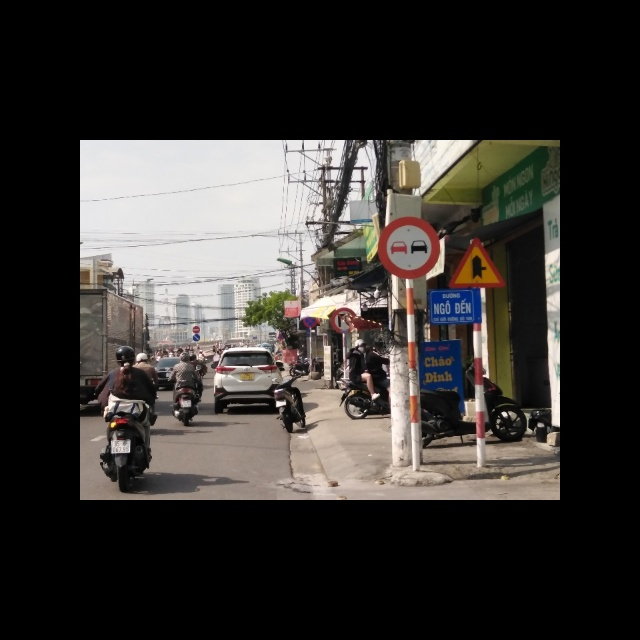Cấm vượt: (378, 216, 439, 278)
Giao nhau với đường không ưu tiên: (450, 236, 507, 289)
